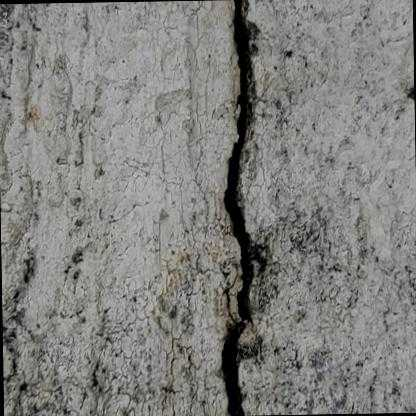crack: (221, 0, 250, 416)
